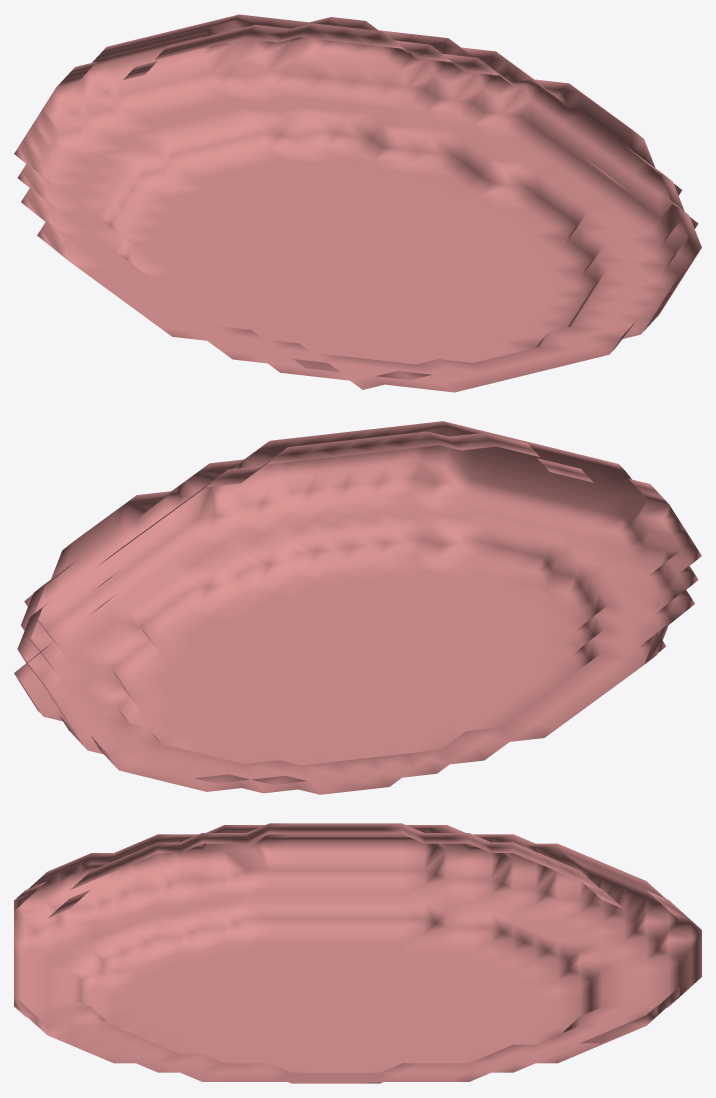
The model's file is 239529_occ.glb.
3 renders of one model, top to bottom at view 1: azimuth 30°, elevation 25°; view 2: azimuth 150°, elevation 25°; view 3: azimuth 270°, elevation 25°, orthographic. The views are drawn at different scales.
Visible parts, largest first — view 1: world; view 2: world; view 3: world.
Part boxes in pixels (x1,y1,x2,y2): world: (14, 14, 701, 392); world: (14, 421, 701, 794); world: (14, 823, 701, 1083).
Bounding box in the file's own units: 2.4 × 0.5 × 3.1.
